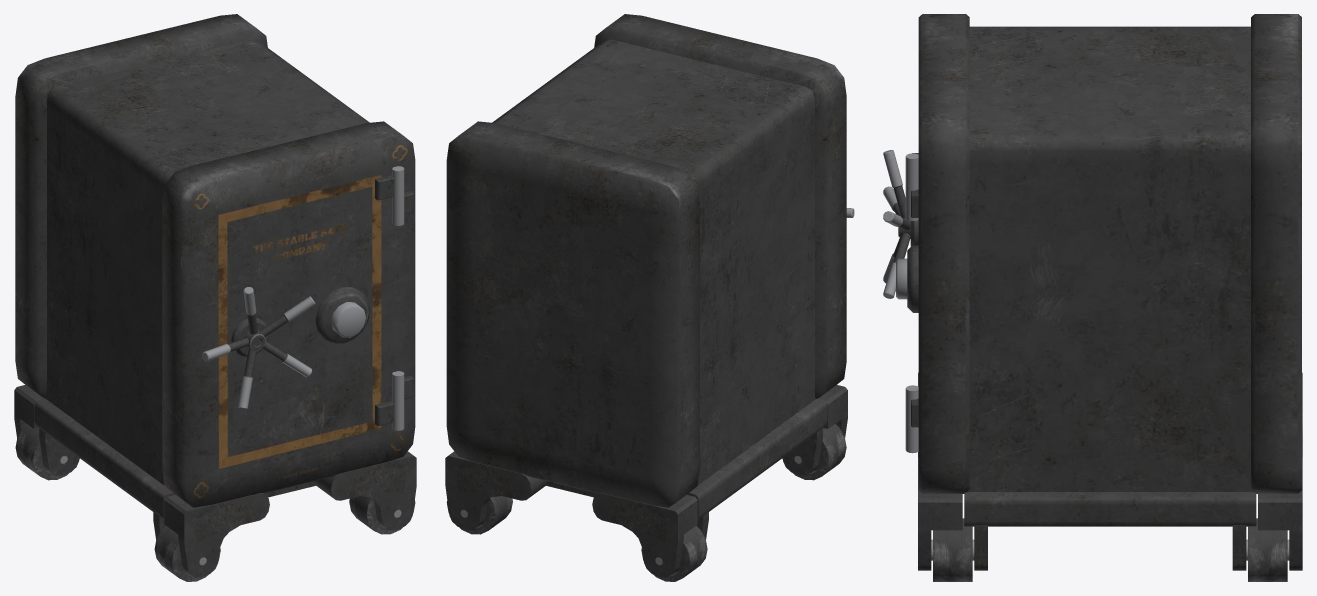
Rendered from antique_iron_safe.glb.
The picture shows the model from 3 angles, left to right: view 1: azimuth 30°, elevation 25°; view 2: azimuth 150°, elevation 25°; view 3: azimuth 270°, elevation 25°; orthographic projection. The views are drawn at different scales.
Visible parts, largest first — view 1: Safe_LP; view 2: Safe_LP; view 3: Safe_LP.
Boxes of the visible parts, box(x1,y1,x2,y2) form: Safe_LP: box(14, 14, 416, 581); Safe_LP: box(445, 14, 854, 581); Safe_LP: box(883, 14, 1302, 581).
Size of the model in its own units: 0.6219 by 0.9836 by 0.8199.
Materials: 1 (1 with a texture image).
